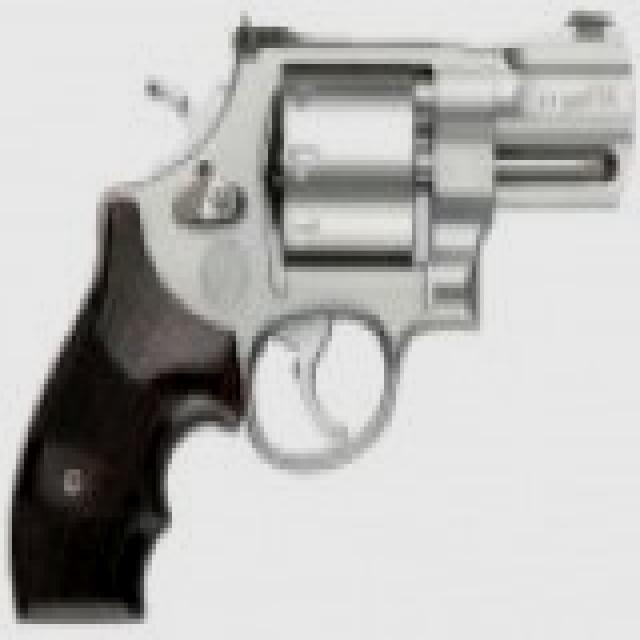pistol: (24, 0, 632, 624)
